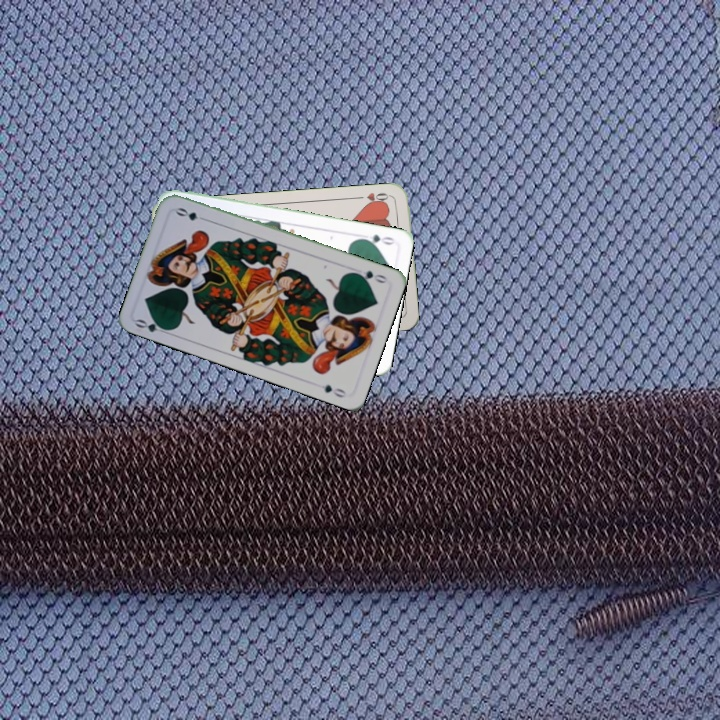GO: (132, 315, 173, 337), (350, 266, 389, 286), (357, 230, 397, 248)
HO: (353, 188, 394, 207)
